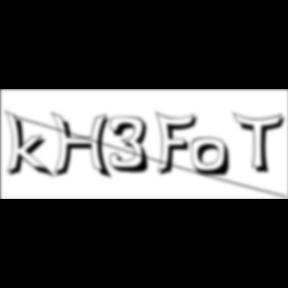3: (110, 116, 156, 176)
F: (155, 110, 203, 178)
H: (51, 112, 117, 182)
k: (4, 108, 58, 181)
o: (191, 137, 233, 179)
